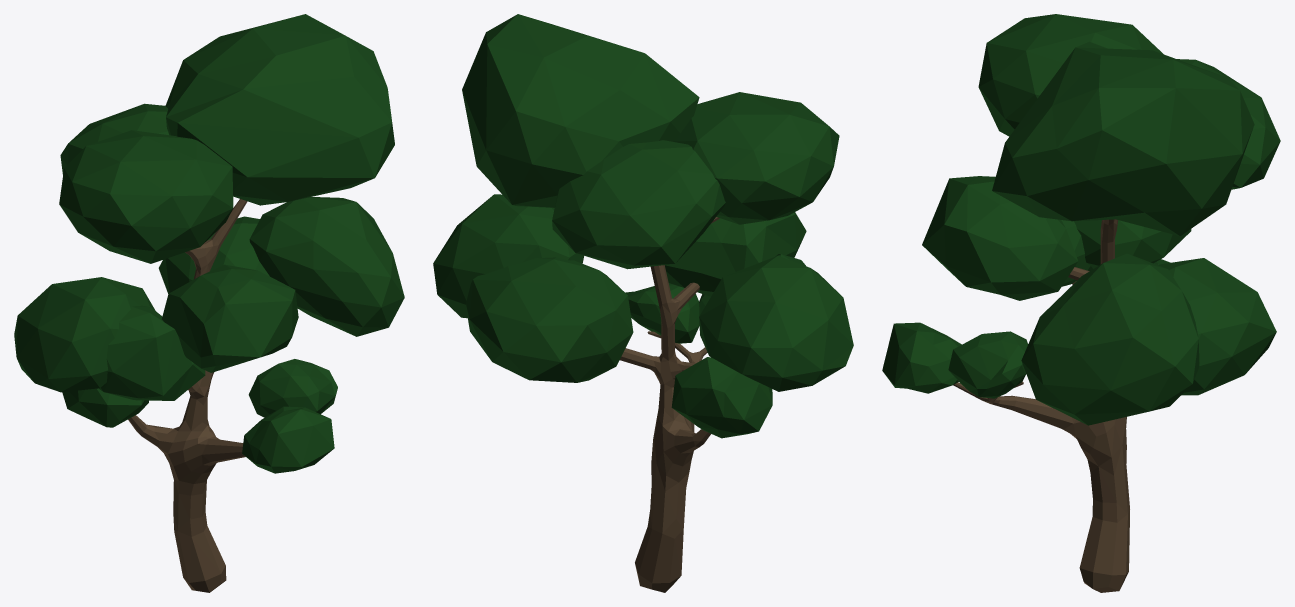
Rendered from LowPTree2.fbx.
3 renders of one model, left to right at view 1: azimuth 30°, elevation 25°; view 2: azimuth 150°, elevation 25°; view 3: azimuth 270°, elevation 25°, orthographic. The views are drawn at different scales.
Parts seen in each view (by area): view 1: Icosphere, Icosphere.001, Icosphere.005, Icosphere.003, Icosphere.009, Cube, Icosphere.010, Icosphere.006, Icosphere.007, Icosphere.004, Icosphere.002, Icosphere.008; view 2: Icosphere, Icosphere.004, Icosphere.002, Icosphere.009, Icosphere.001, Cube, Icosphere.005, Icosphere.003, Icosphere.008, Icosphere.007; view 3: Icosphere, Icosphere.005, Icosphere.003, Cube, Icosphere.001, Icosphere.004, Icosphere.006, Icosphere.007, Icosphere.009, Icosphere.002, Icosphere.010.
Part boxes in pixels (x1,y1,x2,y2): Icosphere: [165, 14, 394, 205]; Icosphere.001: [59, 130, 233, 263]; Icosphere.005: [249, 197, 404, 336]; Icosphere.003: [162, 264, 298, 372]; Icosphere.009: [14, 277, 155, 392]; Cube: [128, 199, 247, 592]; Icosphere.010: [99, 305, 205, 400]; Icosphere.006: [242, 406, 334, 473]; Icosphere.007: [248, 359, 337, 417]; Icosphere.004: [158, 216, 269, 293]; Icosphere.002: [60, 103, 168, 174]; Icosphere.008: [62, 388, 148, 427]; Icosphere: [462, 14, 699, 207]; Icosphere.004: [466, 257, 633, 382]; Icosphere.002: [552, 140, 725, 269]; Icosphere.009: [699, 255, 853, 391]; Icosphere.001: [673, 92, 839, 224]; Cube: [620, 217, 719, 592]; Icosphere.005: [433, 194, 583, 318]; Icosphere.003: [664, 212, 806, 296]; Icosphere.008: [671, 357, 772, 438]; Icosphere.007: [625, 283, 700, 343]; Icosphere: [992, 41, 1254, 235]; Icosphere.005: [1021, 253, 1199, 425]; Icosphere.003: [922, 176, 1078, 300]; Cube: [953, 219, 1129, 592]; Icosphere.001: [978, 14, 1163, 136]; Icosphere.004: [1157, 258, 1276, 395]; Icosphere.006: [882, 322, 961, 393]; Icosphere.007: [948, 331, 1028, 398]; Icosphere.009: [1074, 220, 1191, 268]; Icosphere.002: [1177, 59, 1280, 189]; Icosphere.010: [1061, 220, 1092, 286].
Size of the model in its own units: 1617 by 2207 by 1381.
